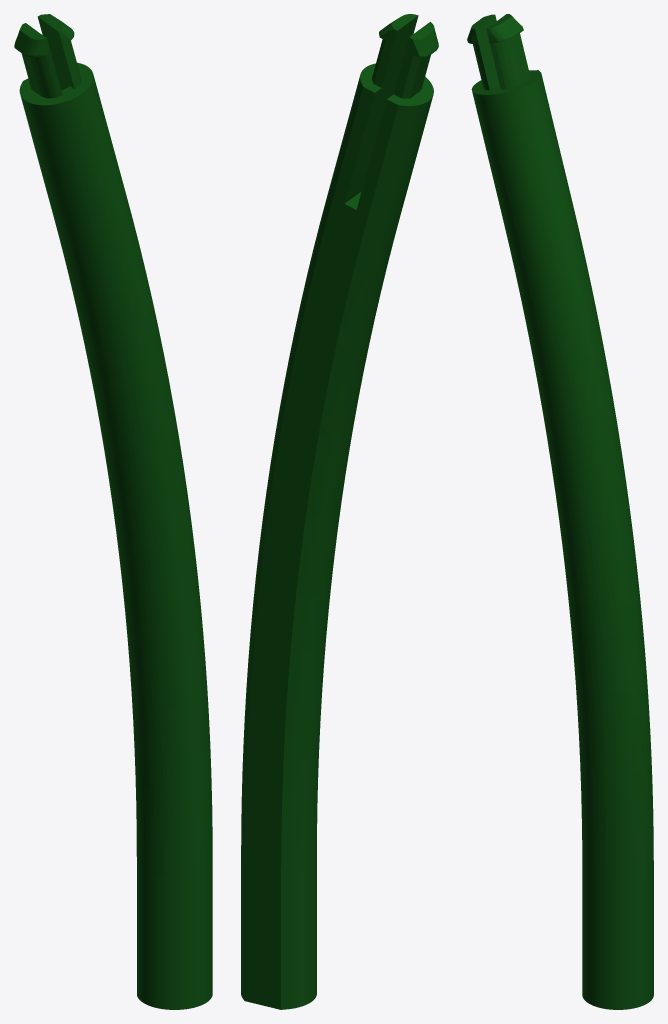
The model's file is stem_3A_15_L.glb.
3 renders of one model, left to right at view 1: azimuth 30°, elevation 25°; view 2: azimuth 150°, elevation 25°; view 3: azimuth 330°, elevation 25°, orthographic. The views are drawn at different scales.
Parts seen in each view (by area): view 1: stem_3A_15_L; view 2: stem_3A_15_L; view 3: stem_3A_15_L.
Part boxes in pixels (left/top/right/bottom): stem_3A_15_L: left=14, top=14, right=212, bottom=1009; stem_3A_15_L: left=241, top=14, right=438, bottom=1009; stem_3A_15_L: left=467, top=14, right=653, bottom=1009.
Size of the model in its own units: 0.0205 by 0.1051 by 0.00666.
